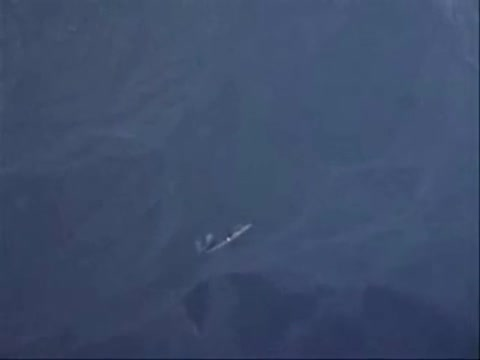aeroplane: (198, 224, 253, 255)
